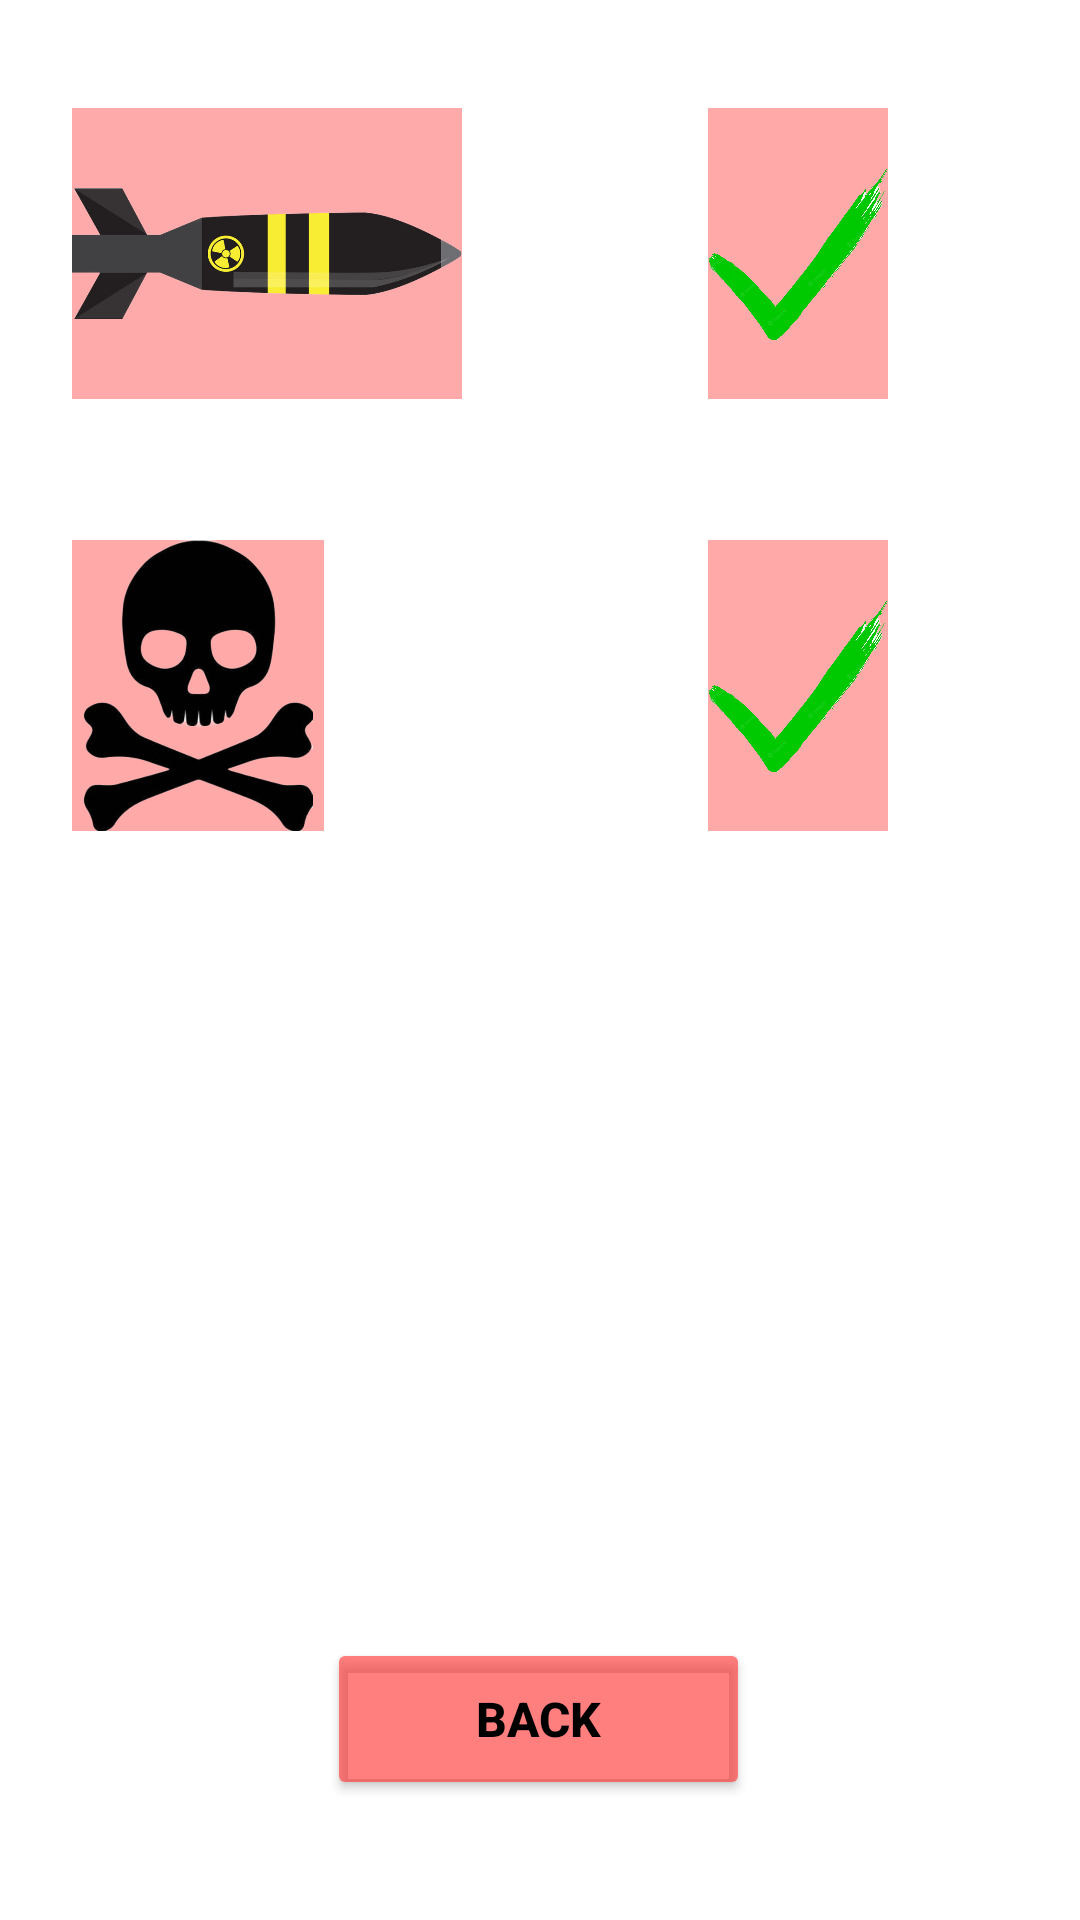

Named icons in this screenshot (1080 × 1920) and their centers, [x,y]:
enable: [798,253], [798,685]
skull: [198,685]
